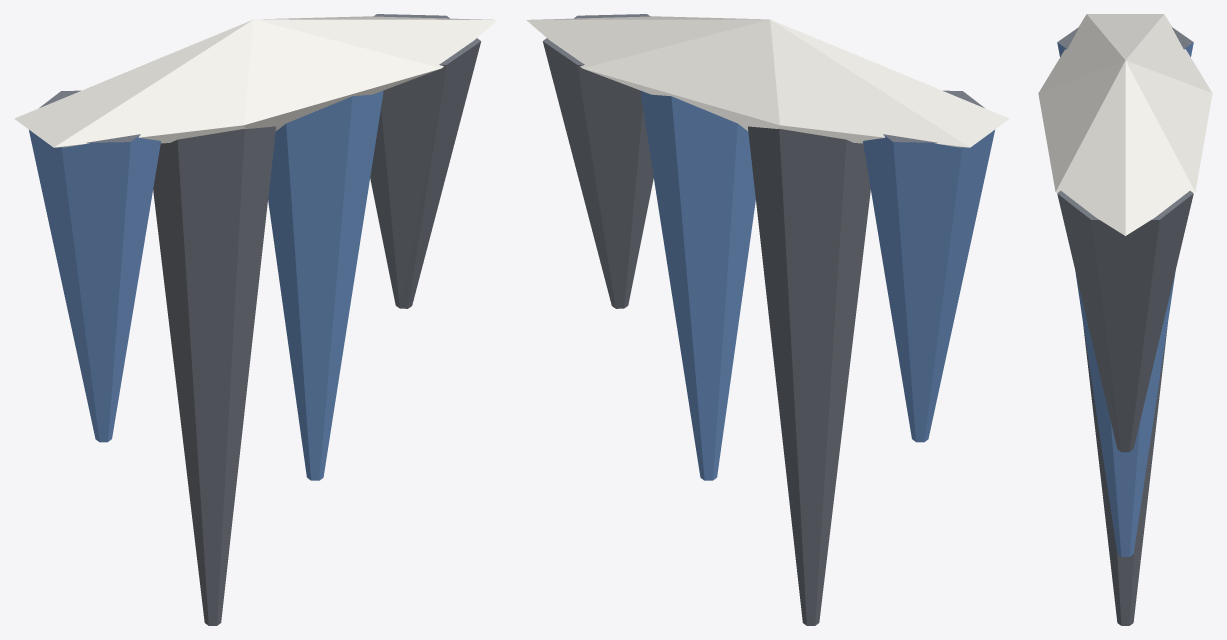
The model's file is deco_icicle.obj.
3 views of the same model, side by side, from view 1: azimuth 30°, elevation 25°; view 2: azimuth 150°, elevation 25°; view 3: azimuth 270°, elevation 25° (orthographic).
Parts seen in each view (by area): view 1: deco_icicle; view 2: deco_icicle; view 3: deco_icicle.
Part boxes in pixels (left/top/right/bottom): deco_icicle: left=14, top=14, right=497, bottom=625; deco_icicle: left=526, top=14, right=1009, bottom=625; deco_icicle: left=1038, top=14, right=1212, bottom=625.
Size of the model in its own units: 0.0323 by 0.0395 by 0.0107.
Materials: 1 (1 with a texture image).
